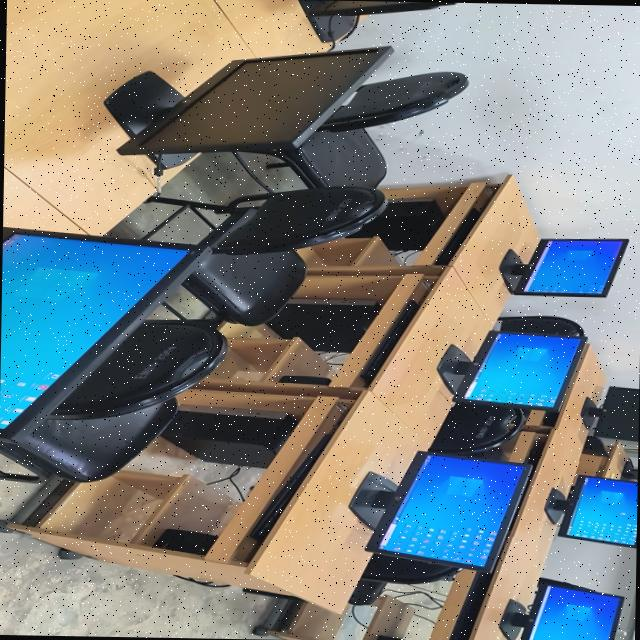Chair: (39, 328, 228, 477), (191, 184, 386, 317), (312, 69, 469, 185), (352, 566, 461, 608), (428, 408, 526, 454), (499, 310, 584, 333)
Cpu: (178, 404, 283, 464), (286, 297, 371, 348), (386, 194, 430, 246)
Monitor: (0, 226, 200, 437), (101, 41, 391, 168), (352, 456, 532, 564), (430, 332, 585, 408), (496, 231, 630, 301), (548, 476, 637, 548), (496, 590, 624, 640), (583, 386, 639, 440)
